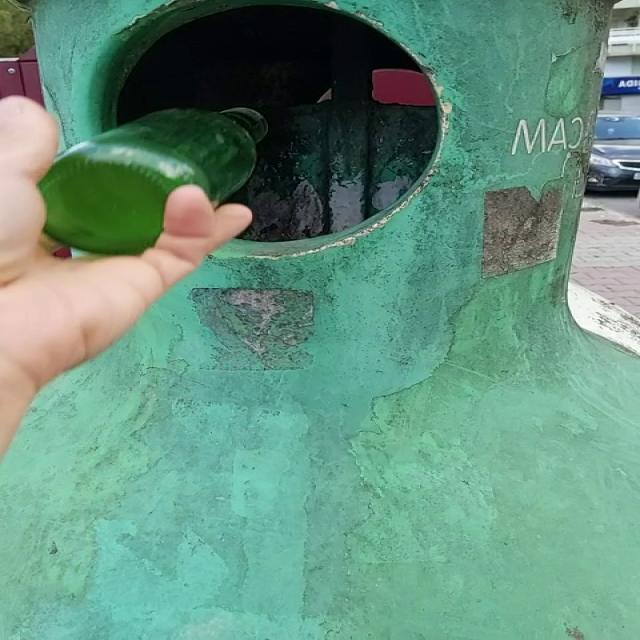glass: (37, 108, 267, 255)
